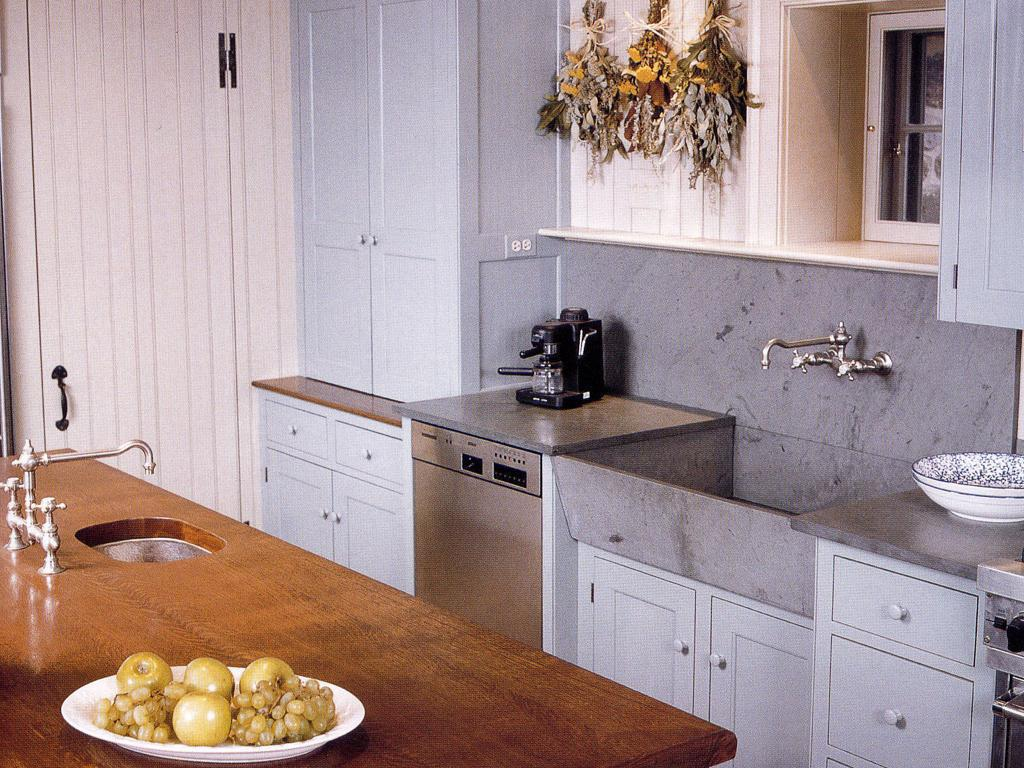Armario: (293, 5, 458, 396)
Electrodomestico: (414, 413, 536, 648)
Lavaplatos: (570, 328, 919, 549), (11, 432, 239, 588)
